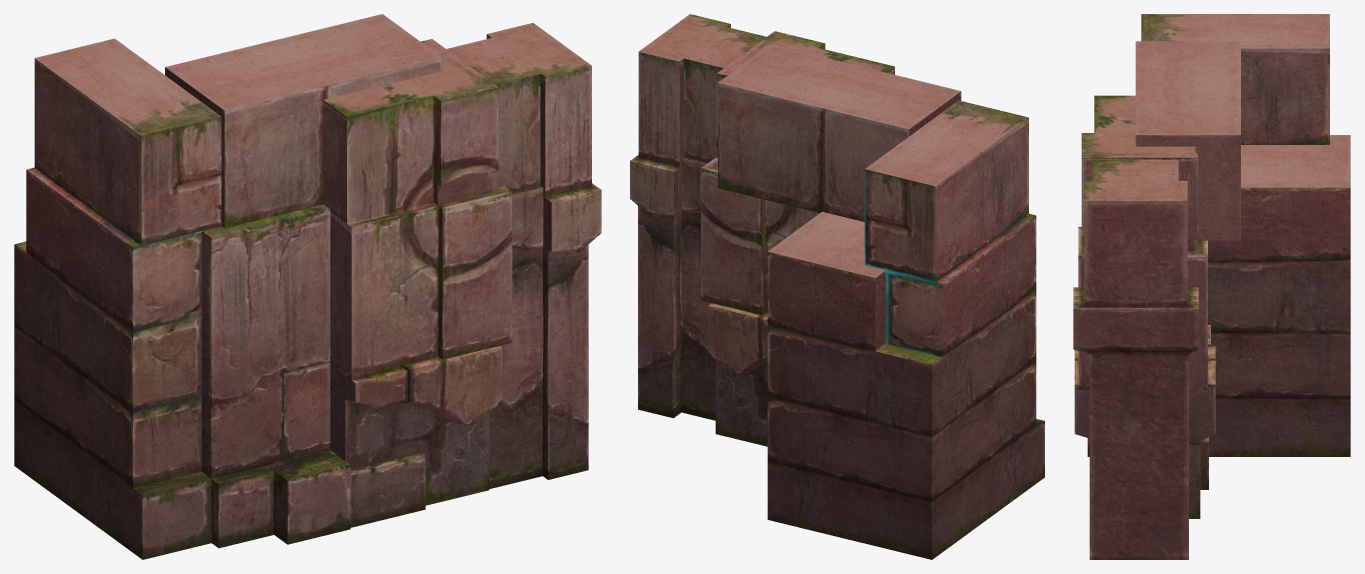
Rendered from yw_huanghunhupan_shiqiang02.FBX.
The picture shows the model from 3 angles, left to right: view 1: azimuth 30°, elevation 25°; view 2: azimuth 150°, elevation 25°; view 3: azimuth 270°, elevation 25°; orthographic projection. The views are drawn at different scales.
Parts seen in each view (by area): view 1: yw_huanghunhupan_shiqiang02; view 2: yw_huanghunhupan_shiqiang02; view 3: yw_huanghunhupan_shiqiang02.
Boxes of the visible parts, left/top/right/bottom form: yw_huanghunhupan_shiqiang02: left=14, top=14, right=601, bottom=559; yw_huanghunhupan_shiqiang02: left=630, top=14, right=1044, bottom=559; yw_huanghunhupan_shiqiang02: left=1073, top=14, right=1350, bottom=559.
Size of the model in its own units: 514 by 483 by 325.
